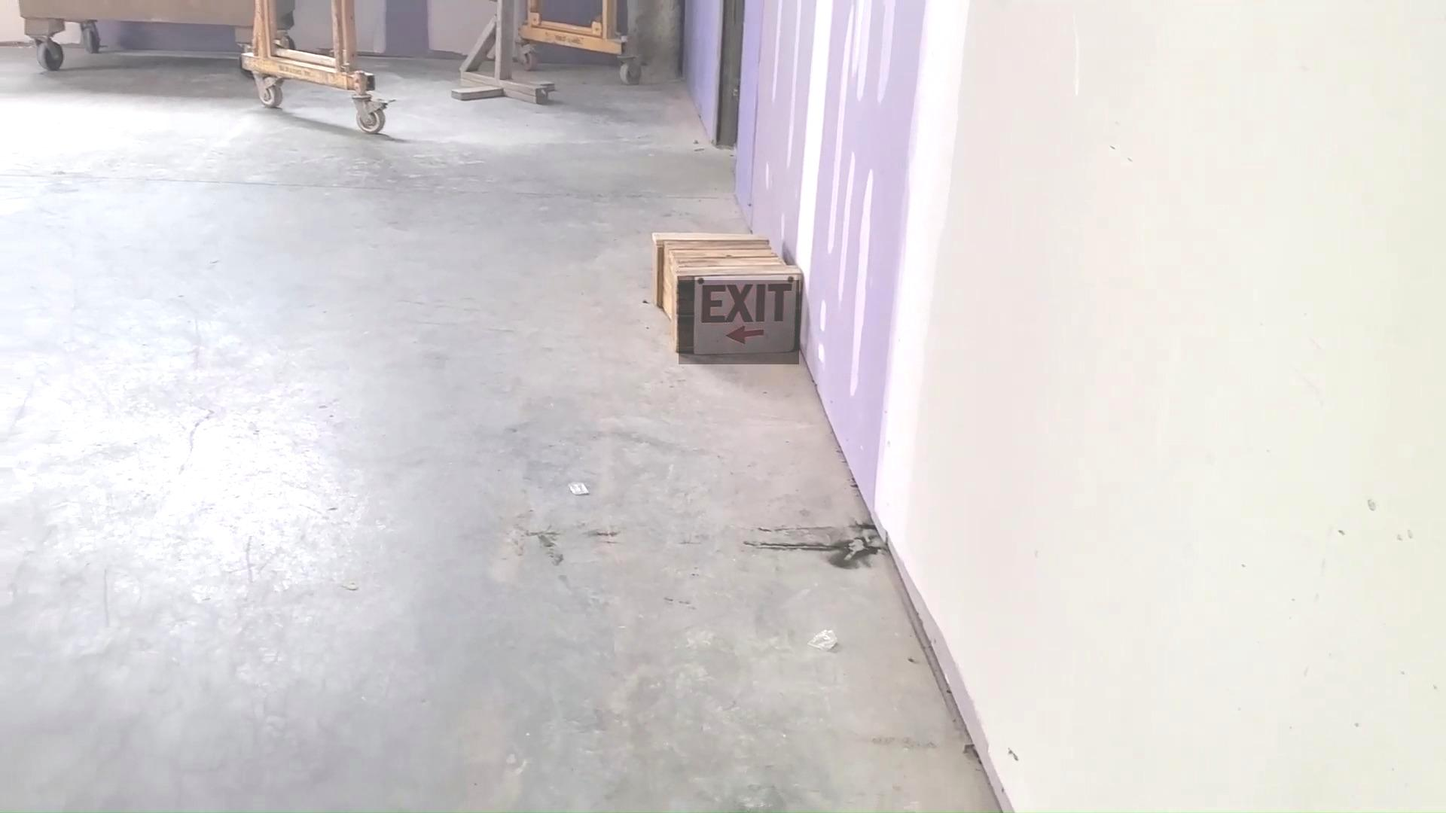exit_sign: (679, 280, 799, 364)
